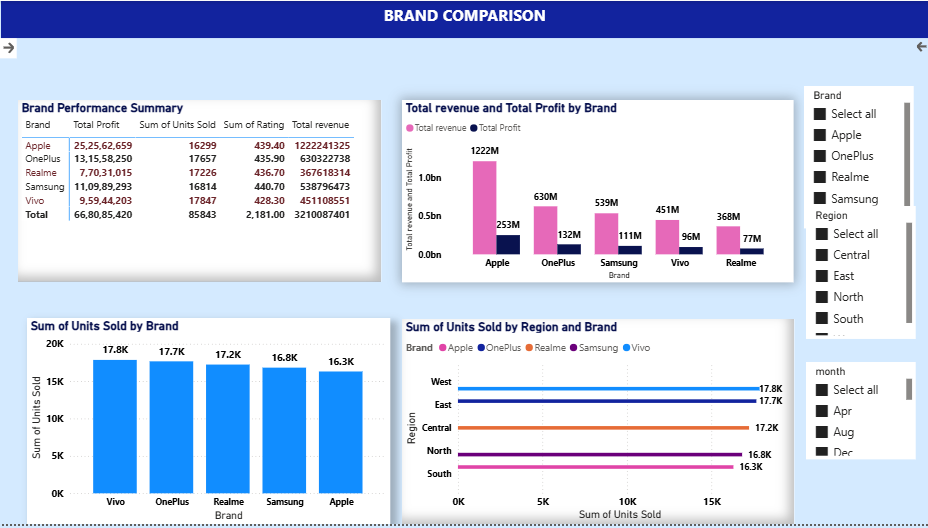

The dashboard page shown, as its layout file describes it:
{"tool":"powerbi","page":{"name":"Brand Comparison","canvas":[1280,720],"ordinal":1},"visuals":[{"type":"pivotTable","title":"Brand Performance Summary","fields":{"Rows":["Mobile_Sales_500.Brand"],"Values":["date-sales data.Total Profit","Sum(Mobile_Sales_500.Units Sold)","Sum(Mobile_Sales_500.Rating)","date-sales data.Total revenue"]},"box":[24.8,136.3,499.6,250.5],"z":0},{"type":"clusteredColumnChart","fields":{"Category":["Mobile_Sales_500.Brand"],"Y":["date-sales data.Total revenue","date-sales data.Total Profit"]},"box":[552.9,135.7,538.6,251.4],"z":1000},{"type":"clusteredColumnChart","fields":{"Category":["Mobile_Sales_500.Brand"],"Y":["Sum(Mobile_Sales_500.Units Sold)"]},"box":[37.1,435.7,500,284.3],"z":2000},{"type":"clusteredBarChart","fields":{"Category":["Mobile_Sales_500.Region"],"Series":["Mobile_Sales_500.Brand"],"Y":["Sum(Mobile_Sales_500.Units Sold)"]},"box":[552.9,437.1,540,282.9],"z":3000},{"type":"actionButton","box":[0,50.9,23.4,27.5],"z":4000},{"type":"actionButton","box":[1258,50.9,22,24.8],"z":5000},{"type":"slicer","fields":{"Values":["Mobile_Sales_500.Brand"]},"box":[1107.1,117.1,151.4,195.7],"z":6000},{"type":"slicer","fields":{"Values":["Mobile_Sales_500.Region"]},"box":[1108.8,282.8,150.5,183.3],"z":7000},{"type":"slicer","fields":{"Values":["date-sales data.month"]},"box":[1108.8,497.5,150.5,133.5],"z":8000},{"type":"textbox","box":[1.4,0,1277.2,50.9],"z":9000}]}

Visuals, with their boxes in screenshot pixels (x1, y1, x2, y2), scaled from the page's 1280x720 canvas onto the 928x528 screenshot:
"Brand Performance Summary" pivotTable: 18/100/380/284
clusteredColumnChart - Mobile_Sales_500.Brand x date-sales data.Total revenue: 401/100/791/284
clusteredColumnChart - Mobile_Sales_500.Brand x Sum(Mobile_Sales_500.Units Sold): 27/320/389/527
clusteredBarChart - Mobile_Sales_500.Region x Mobile_Sales_500.Brand: 401/321/792/527
actionButton: 0/37/17/57
actionButton: 912/37/927/56
slicer - Mobile_Sales_500.Brand: 803/86/912/229
slicer - Mobile_Sales_500.Region: 804/207/913/342
slicer - date-sales data.month: 804/365/913/463
textbox: 1/0/927/37
